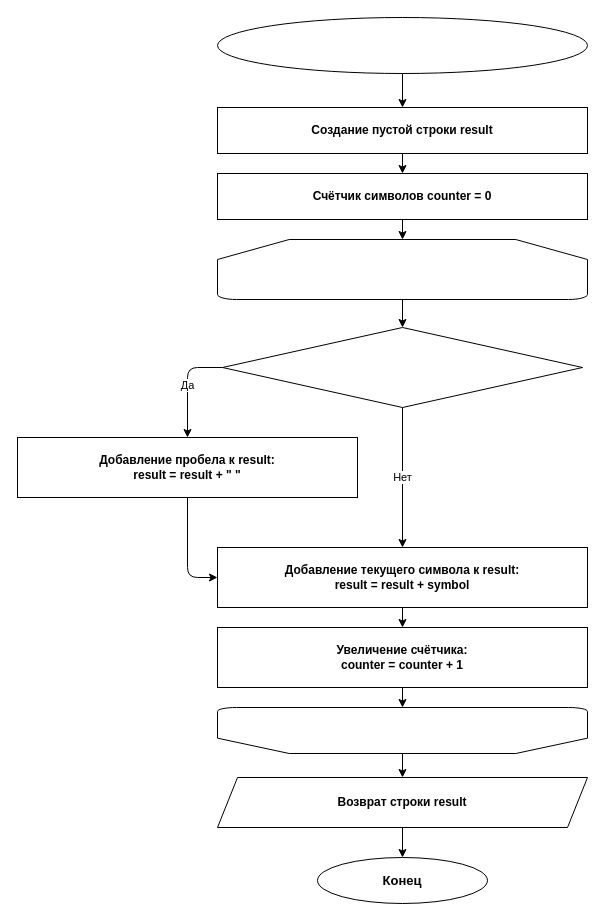
This 605x921 diagram has some shape labels left out. The shapes that lost their labels are listed below. From the top down, each one's centre as x and y in pixels, then its label:
At pixel 402 45: "Начало split_into_groups_of_five(text)".
At pixel 402 269: "Цикл прохода по тексту for symbol in text".
At pixel 402 367: "counter больше 0 и counter mod 5 равен 0?".
At pixel 402 730: "Цикл прохода по тексту".
